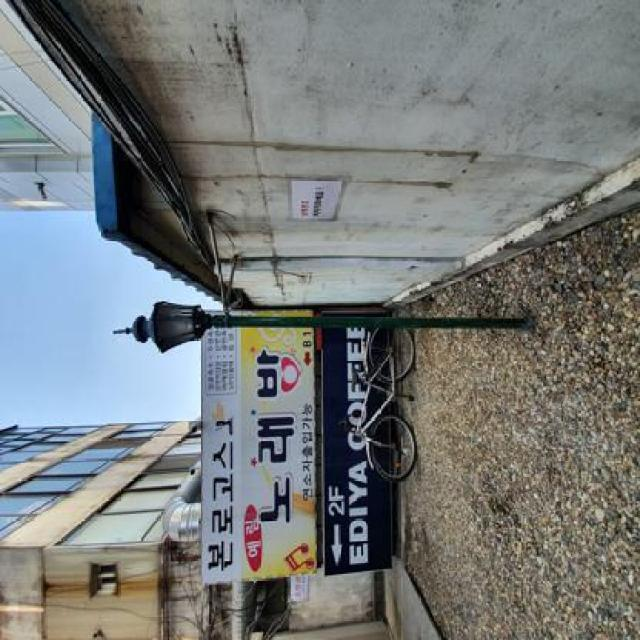pole: (103, 288, 542, 366)
